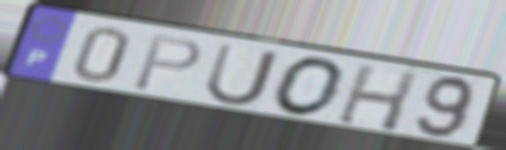0: (68, 25, 132, 85)
9: (411, 74, 478, 142)
H: (333, 61, 422, 134)
O: (270, 55, 350, 119)
P: (129, 33, 206, 93)
U: (201, 41, 282, 108)
